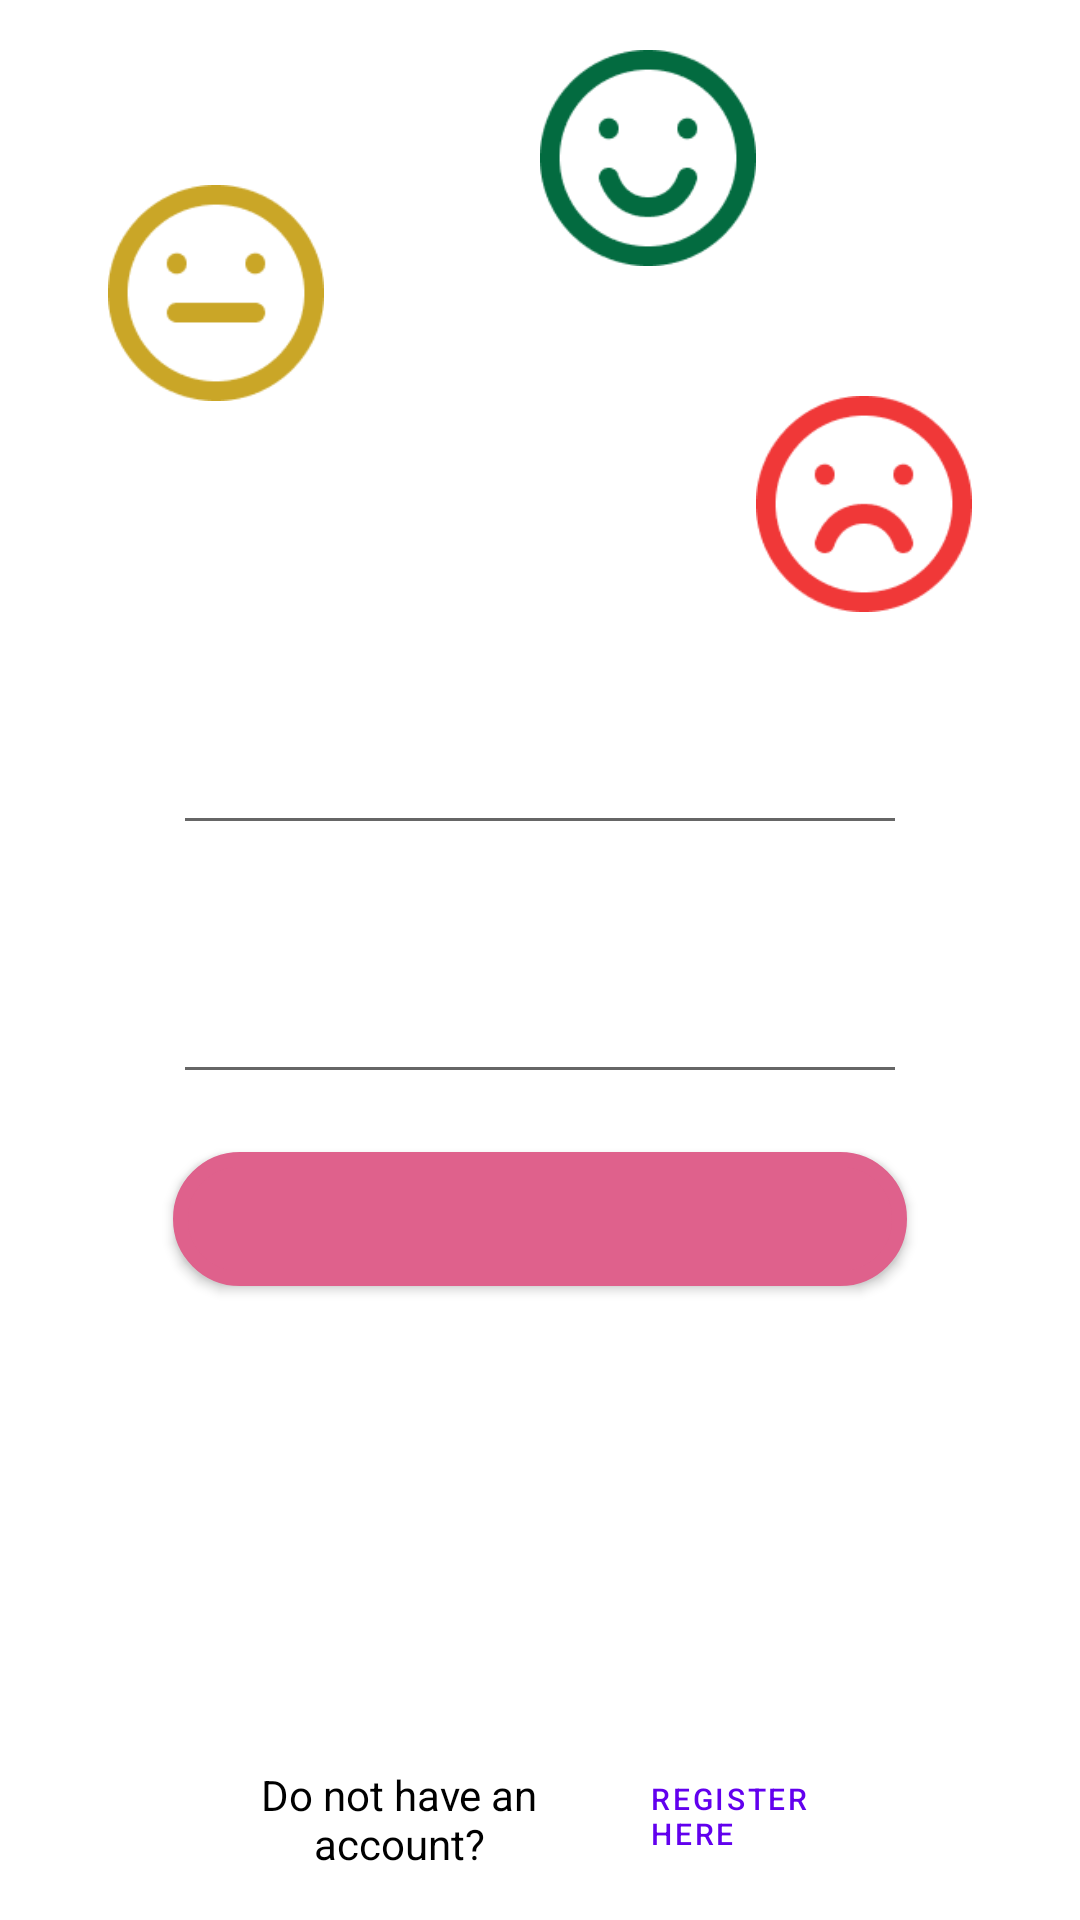

Screen size 1080px x 1920px. Icon name, then its center in pixels as point (x, y):
happy: point (648, 158)
nothing: point (216, 293)
unhappy: point (864, 504)
